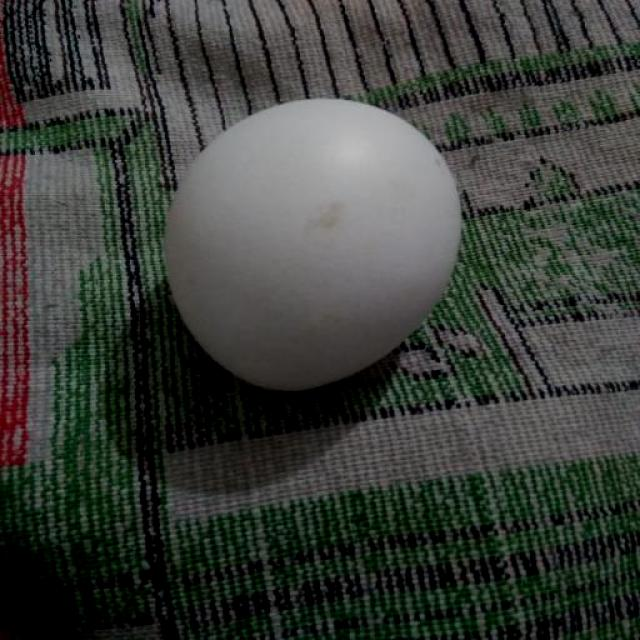telur: (160, 95, 469, 392)
